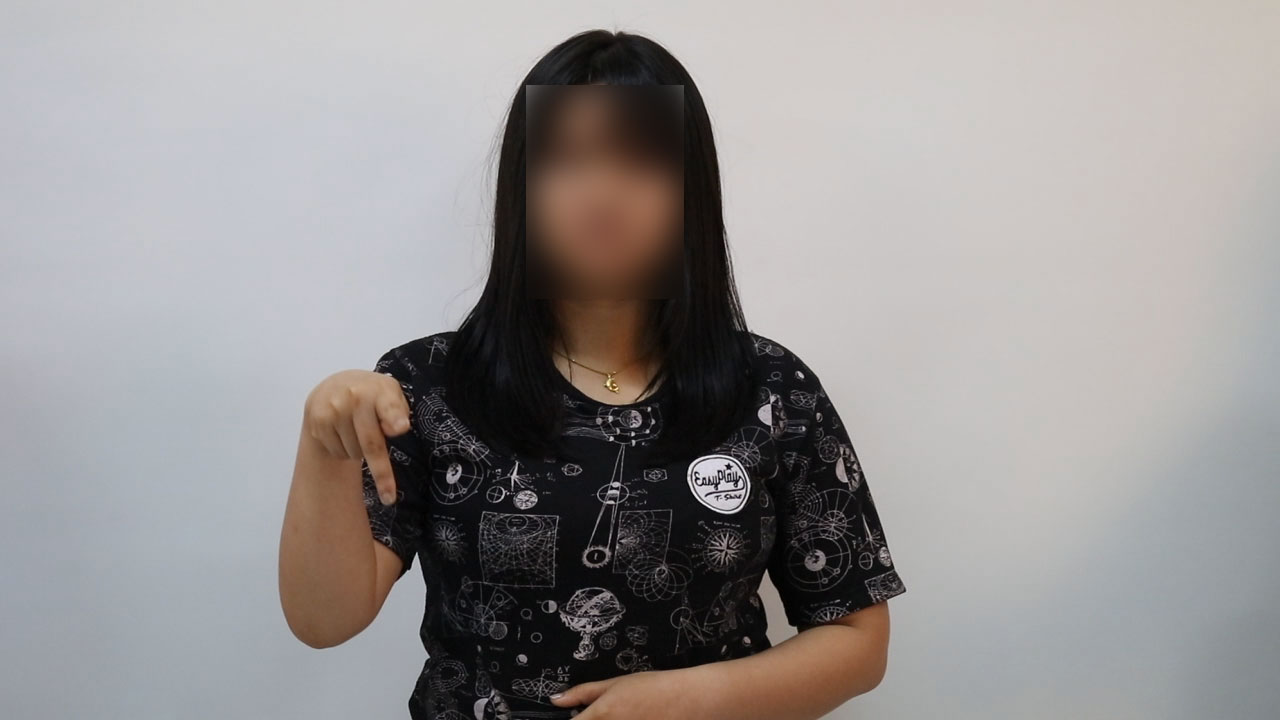por: (288, 358, 423, 521)
